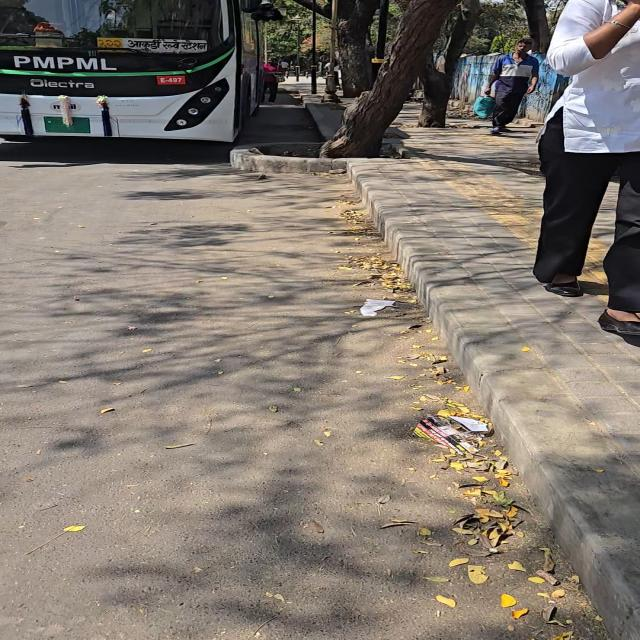bike: (534, 0, 639, 334), (485, 38, 539, 134), (262, 61, 281, 102)
